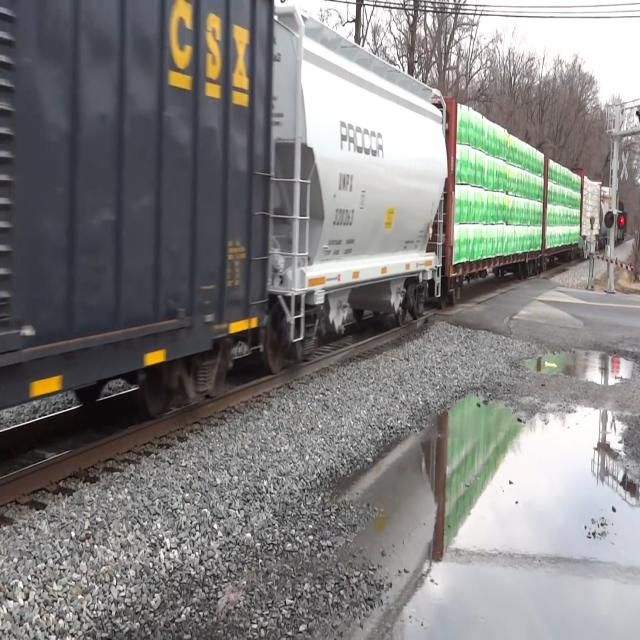flatcar_bulkhead: (448, 87, 549, 304)
hopper: (0, 4, 273, 475)
tank: (269, 0, 455, 373)
